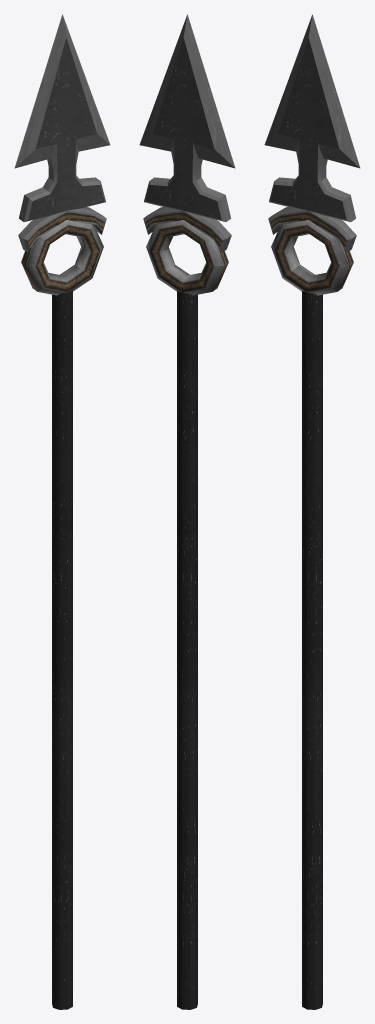
File: Mesh_lance_01.gltf
3 views of the same model, side by side, from view 1: azimuth 30°, elevation 25°; view 2: azimuth 150°, elevation 25°; view 3: azimuth 330°, elevation 25° (orthographic).
Visible parts, largest first — view 1: Mesh_lance_01; view 2: Mesh_lance_01; view 3: Mesh_lance_01.
Boxes of the visible parts, left/top/right/bottom form: Mesh_lance_01: left=14, top=14, right=110, bottom=1009; Mesh_lance_01: left=139, top=14, right=235, bottom=1009; Mesh_lance_01: left=264, top=14, right=360, bottom=1009.
Bounding box in the file's own units: 47.48 × 468 × 9.62.
Materials: 1 (1 with a texture image).
